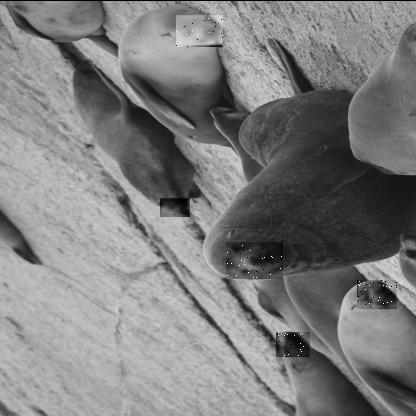face: (226, 240, 284, 278), (176, 13, 224, 46), (357, 278, 398, 308), (276, 330, 311, 356), (160, 196, 191, 216)
